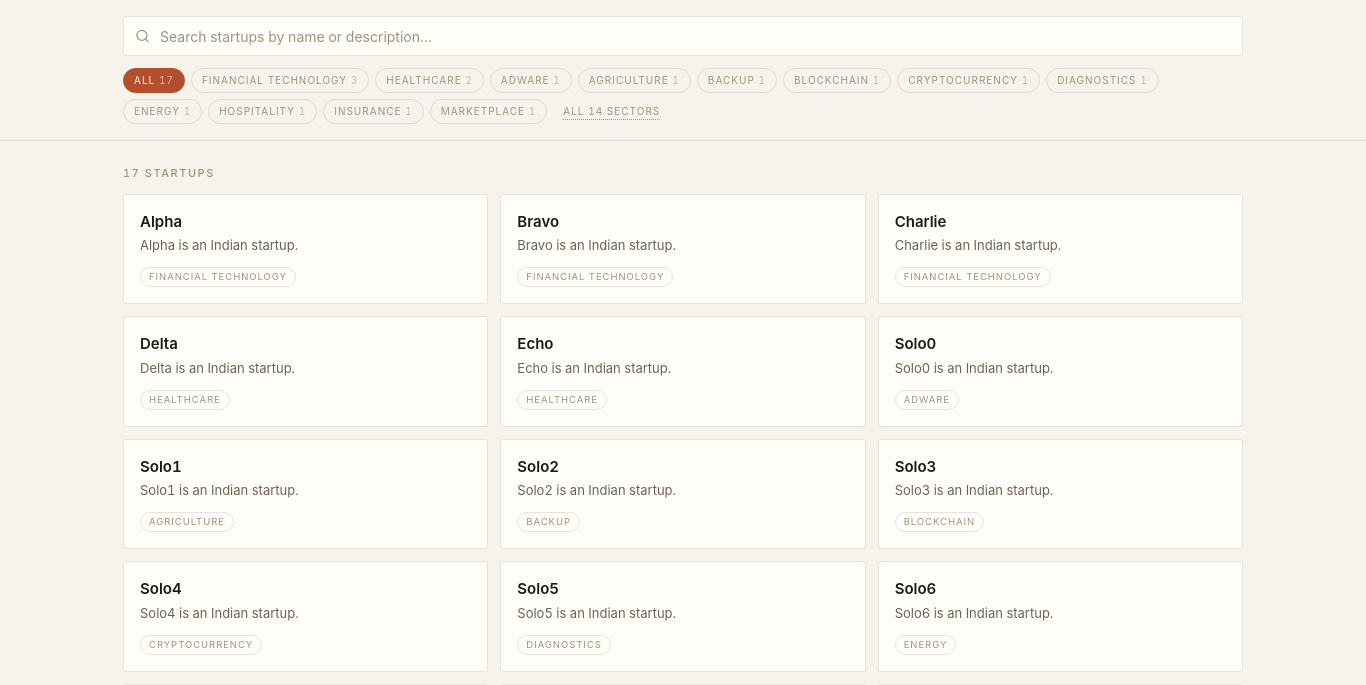
Test case: StartupsView › hides the long tail of sectors behind an expander
Step 1. Click the button "All 14 sectors" → point(612, 112), box [553,100,670,123]
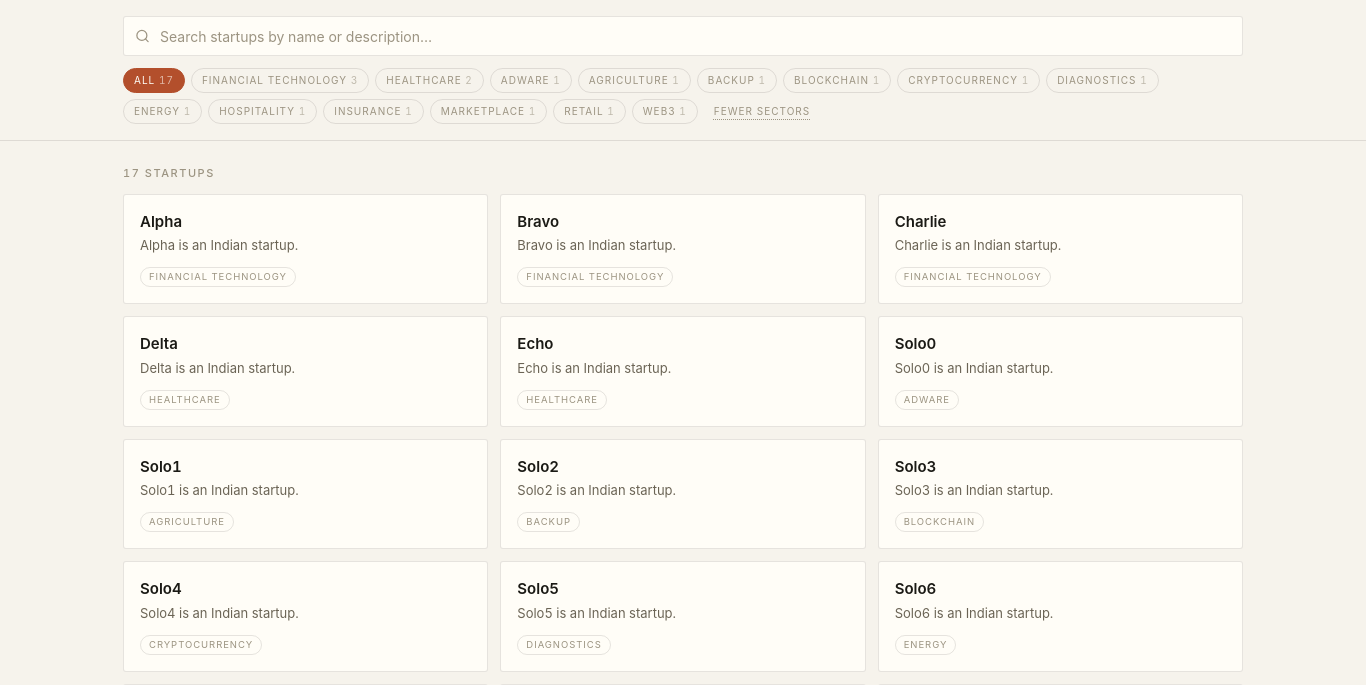
Now the button "Fewer sectors" is shown, box [704,100,820,123]
